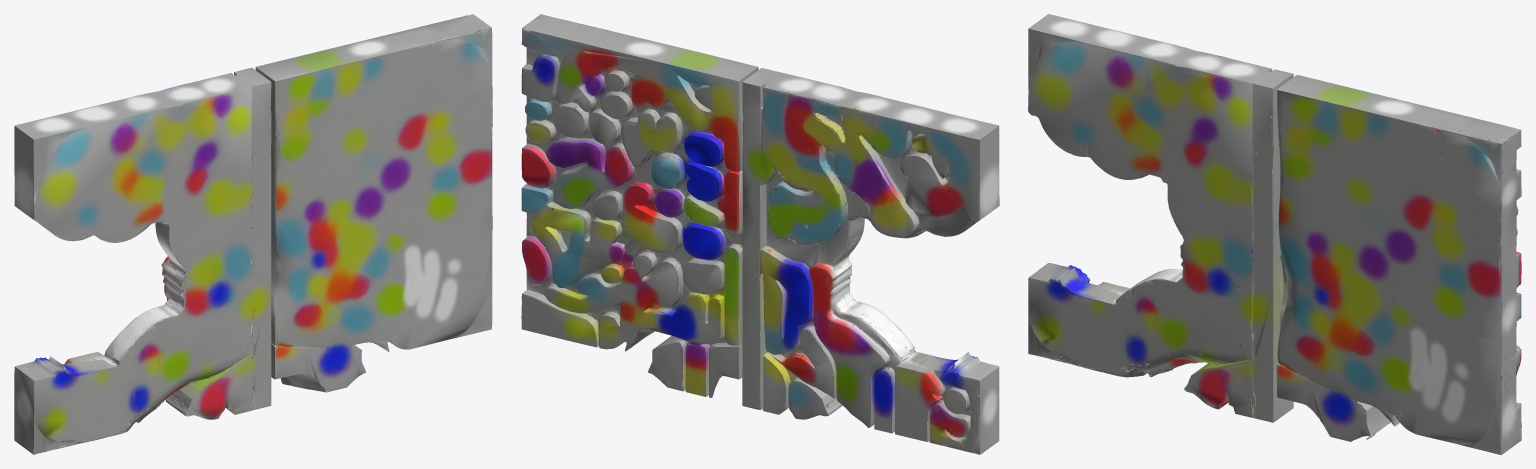
Rendered from StoneTablet.glb.
The picture shows the model from 3 angles, left to right: view 1: azimuth 30°, elevation 25°; view 2: azimuth 150°, elevation 25°; view 3: azimuth 330°, elevation 25°; orthographic projection. The views are drawn at different scales.
Parts seen in each view (by area): view 1: node_0; view 2: node_0; view 3: node_0.
Boxes of the visible parts, x1,y1,x2,y2 form: node_0: (14,14,492,454); node_0: (521,14,999,454); node_0: (1028,14,1521,454).
Bounding box in the file's own units: 0.994 × 0.6723 × 0.0768.
1 material, 1 textured.
